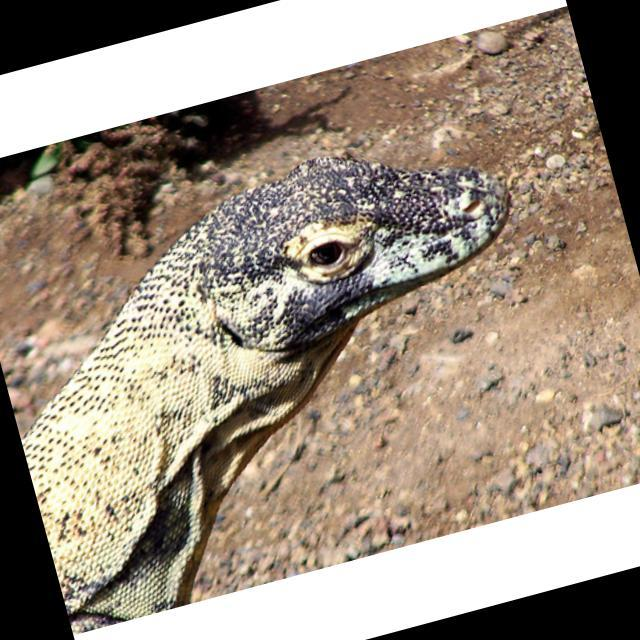KomodoDragon: (0, 108, 593, 631)
